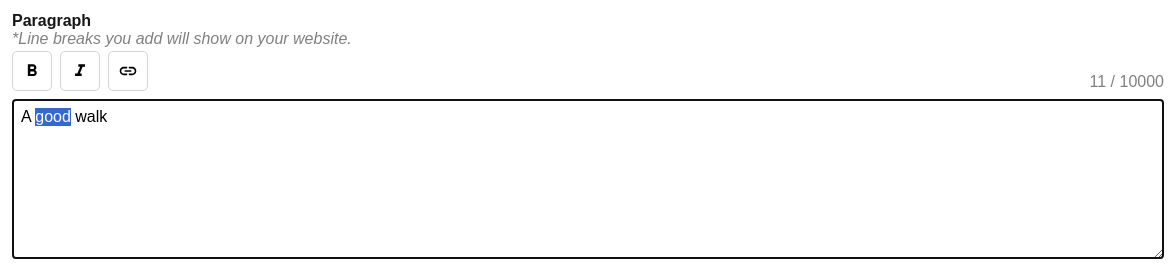
ParagraphField formatting › wraps the selected words in ** for Bold and keeps them selected
This screenshot has width=1176, height=276.
Click the button named "Bold text in paragraph 1".
click(32, 71)  # box [12,51,52,91]
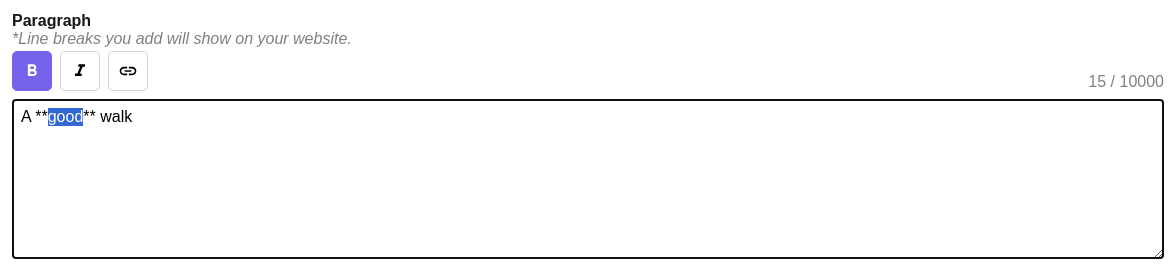
Now the text box labelled "Paragraph" holds "A **good** walk", box [12,99,1164,259]
